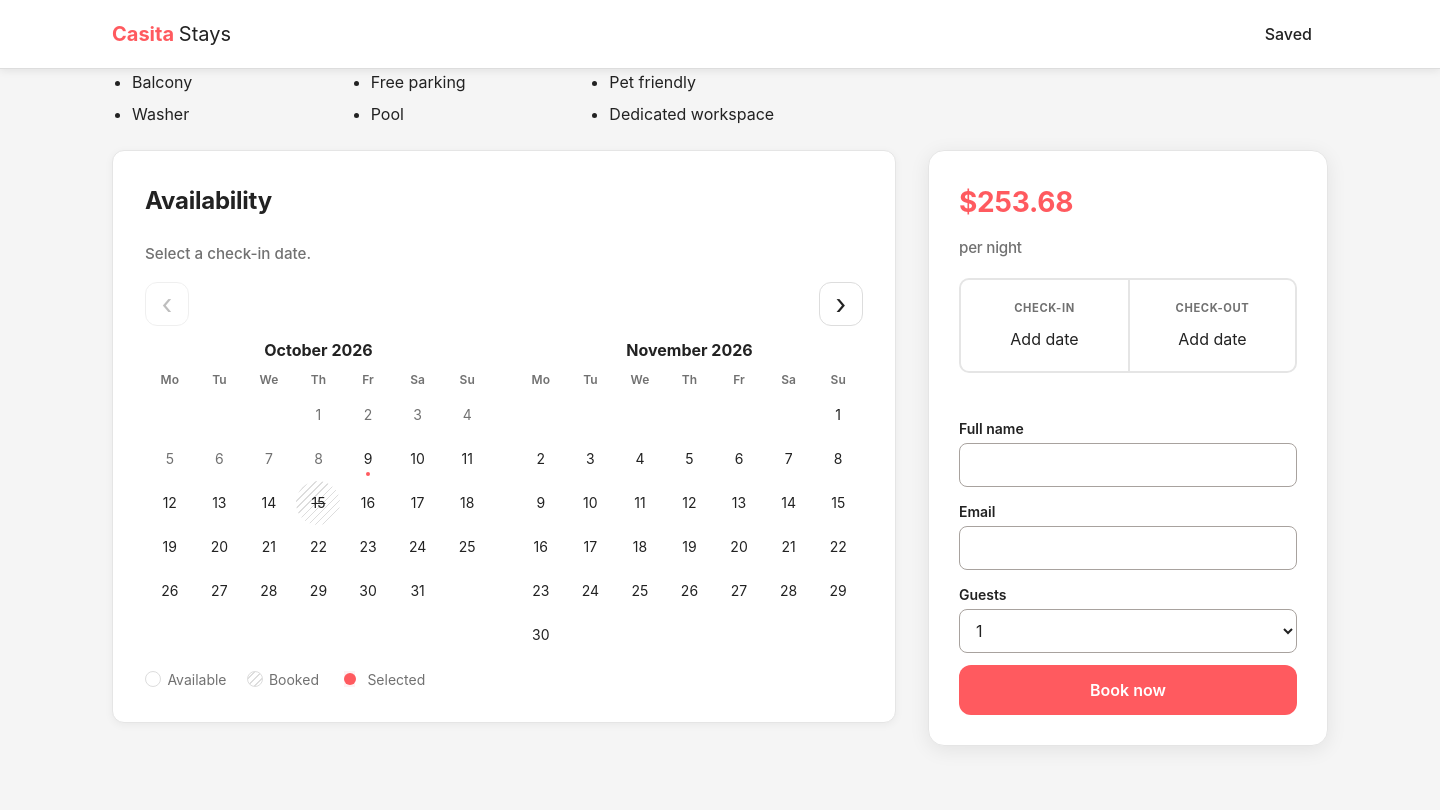
Test: booking flow › says a booked or past day is not available, then clears it on a valid pick
The image size is (1440, 810).
(page scrolled)
Check: the table named "October 2026" is shown, box left=145, top=370, right=492, bottom=613
Click the button "15" below "October 2026" at (318, 503), box left=296, top=481, right=340, bottom=525
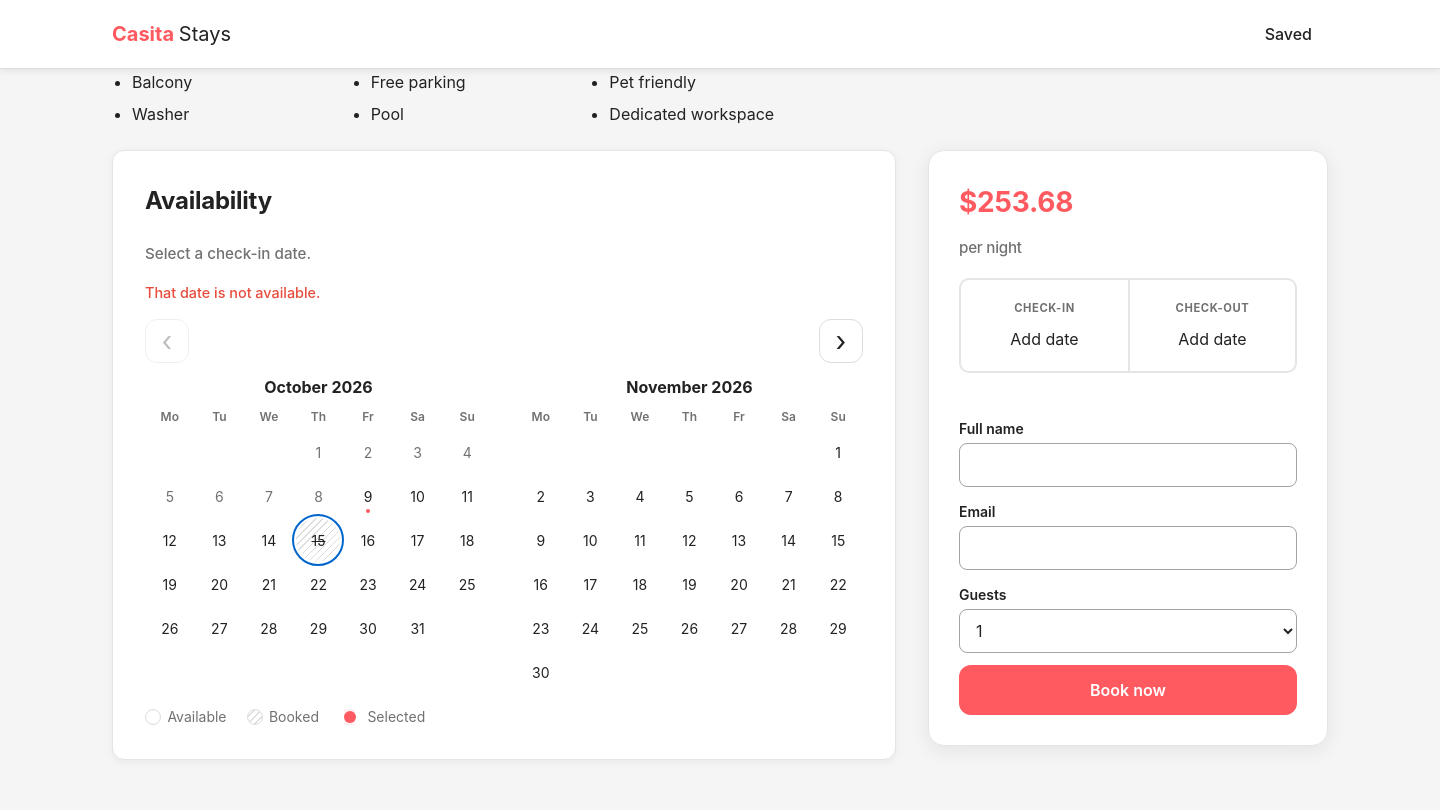
Check: the text "That date is not available." is shown, box left=145, top=284, right=320, bottom=301
Click the button "8" below "October 2026" at (318, 496), box left=296, top=474, right=340, bottom=518
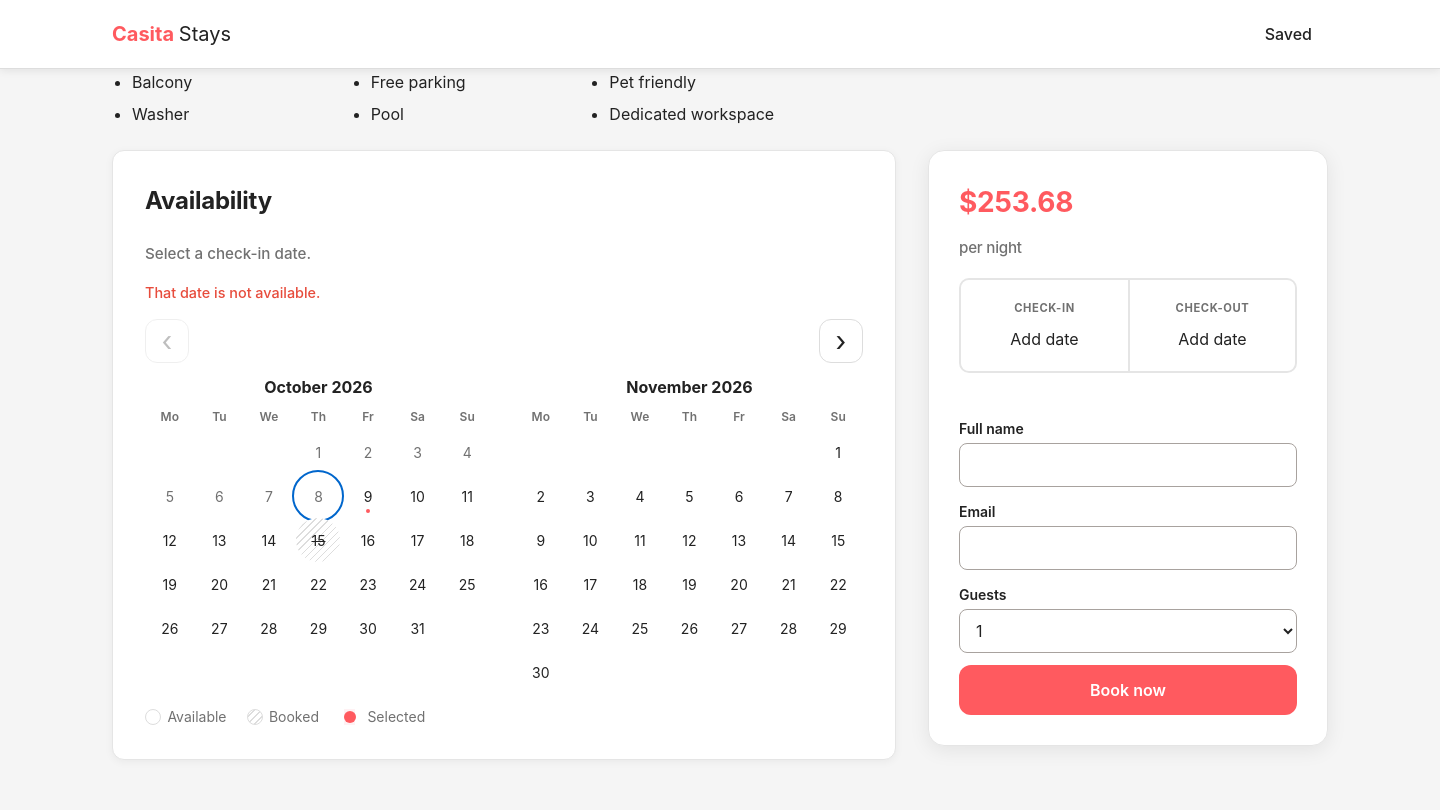
Check: the text "That date is not available." is shown, box left=145, top=284, right=320, bottom=301
Click the button "12" below "October 2026" at (170, 540), box left=148, top=518, right=192, bottom=562
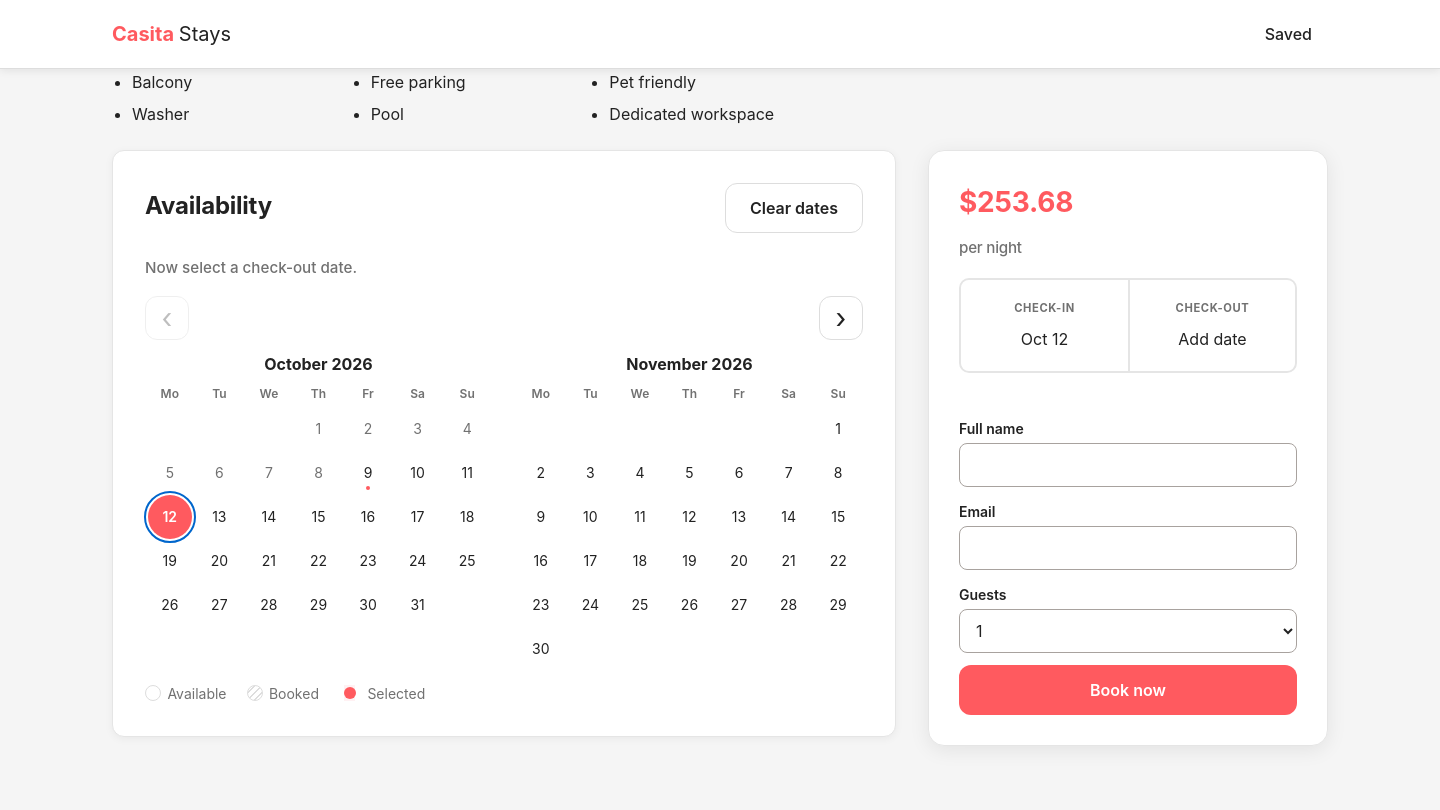
Check: the text "That date is not available." is gone
